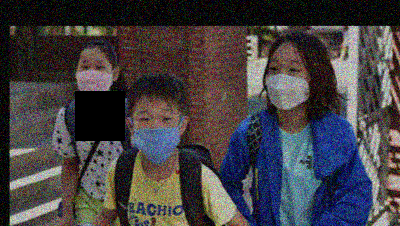with_mask: (131, 105, 182, 163), (266, 55, 310, 111), (75, 57, 113, 97)
